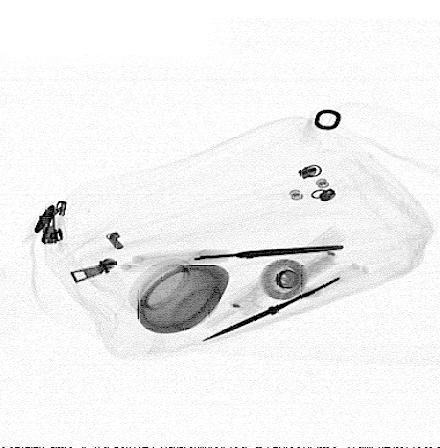Scissors: (197, 261, 373, 346), (116, 241, 352, 274)
